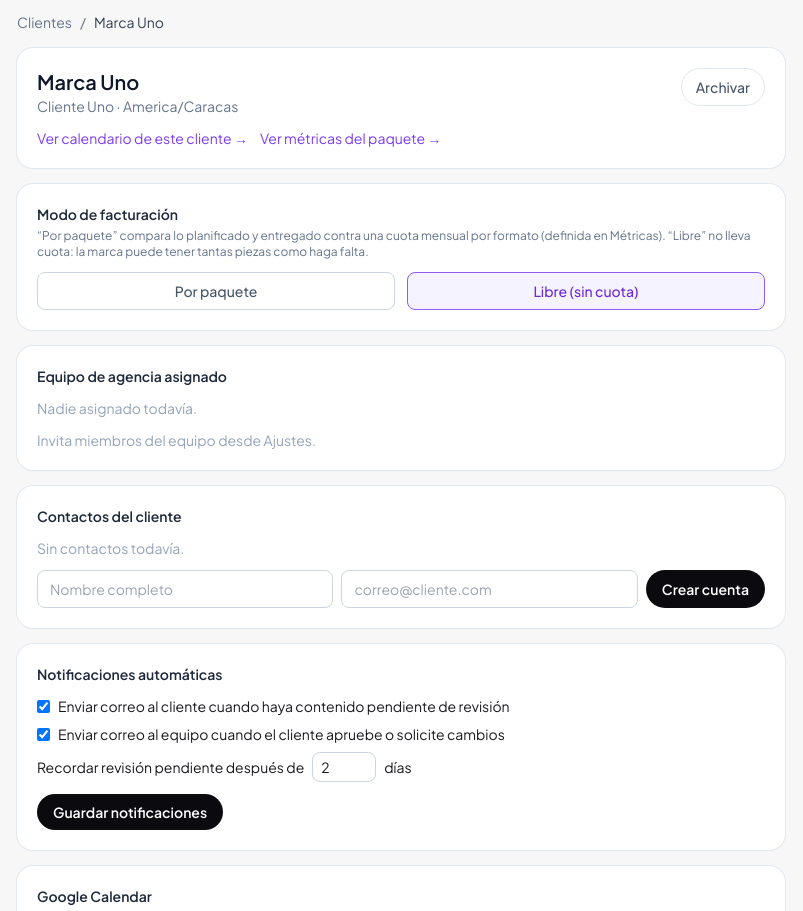
Test: ClientDetail — panel de la clave generada al crear un contacto › el botón de copiar pone la clave en el portapapeles y lo confirma
This screenshot has width=803, height=911.
Type "Carla Cliente" into the field with placeholder "Nombre completo". click: (185, 589)
box: [37, 570, 333, 608]
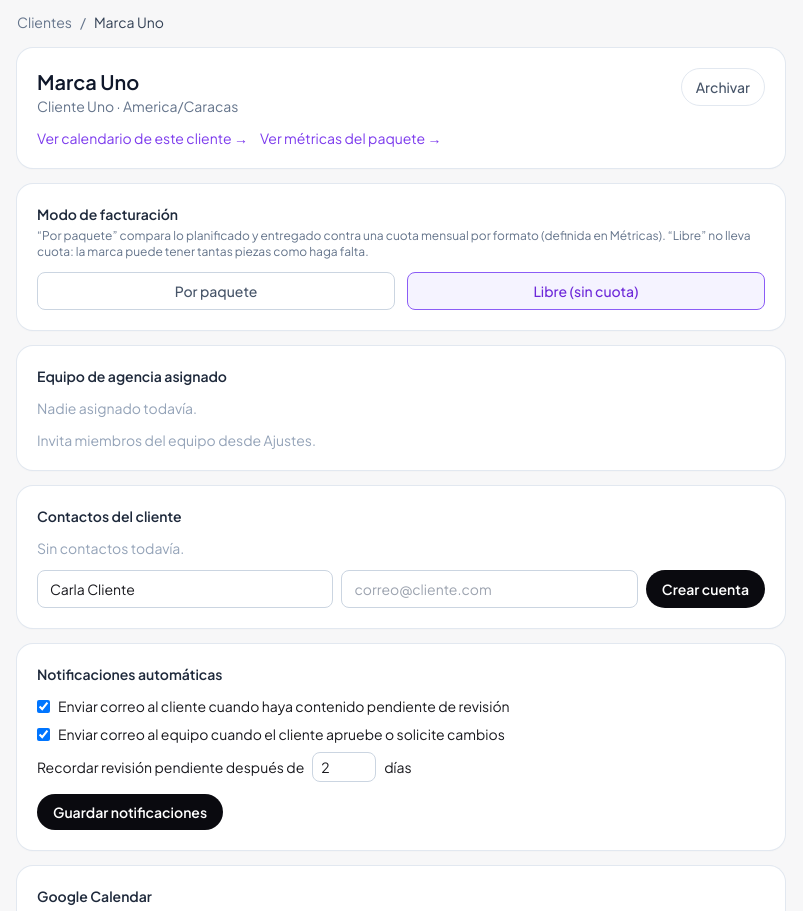
Type "contacto@cliente.test" into the field with placeholder "correo@cliente.com". click: (490, 589)
box: [341, 570, 638, 608]
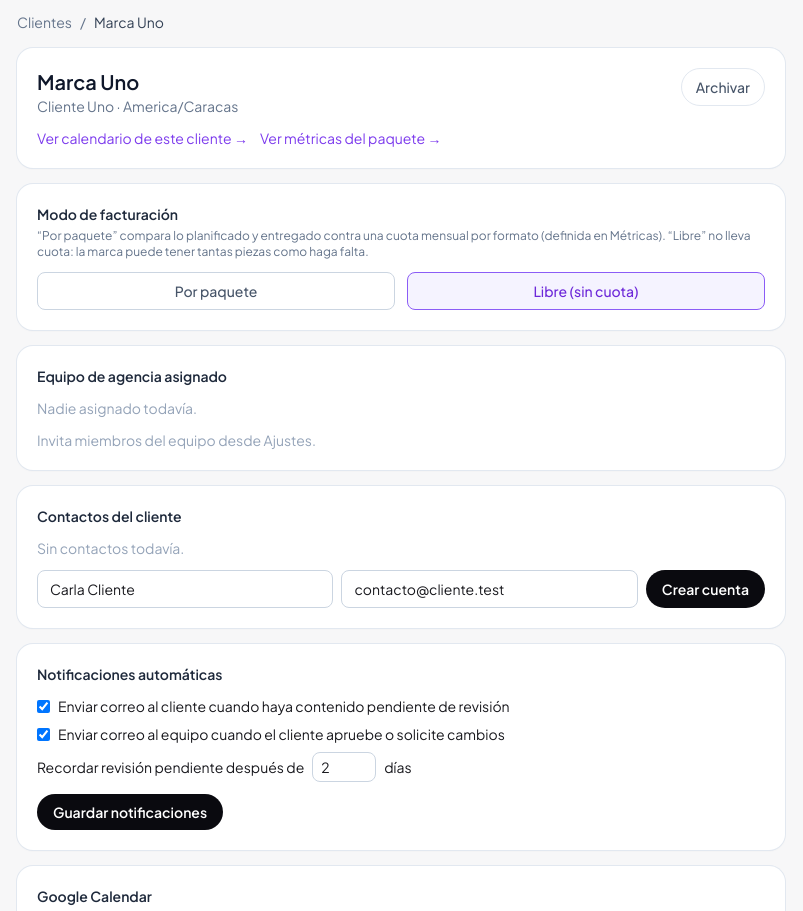
Click the button "Crear cuenta". click: (705, 589)
box: [646, 570, 765, 608]
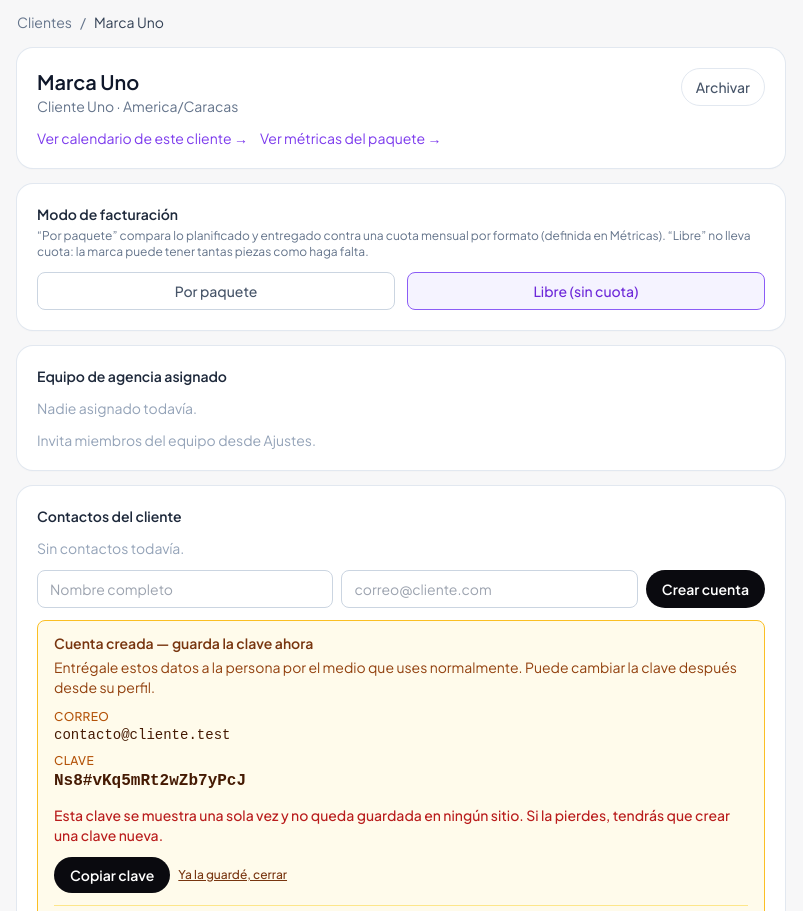
Now the text "Ns8#vKq5mRt2wZb7yPcJ" is shown, box [54, 772, 246, 790]
Click the button "Copiar clave". click: (112, 875)
box: [54, 857, 170, 893]
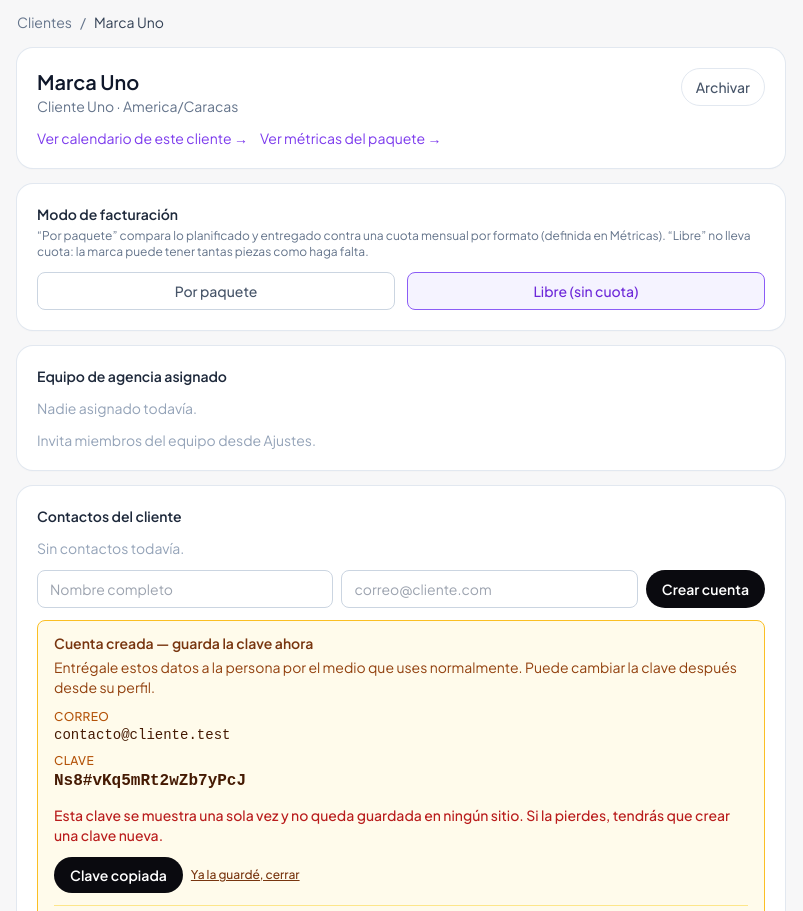
Now the button "Clave copiada" is shown, box [54, 857, 183, 893]
